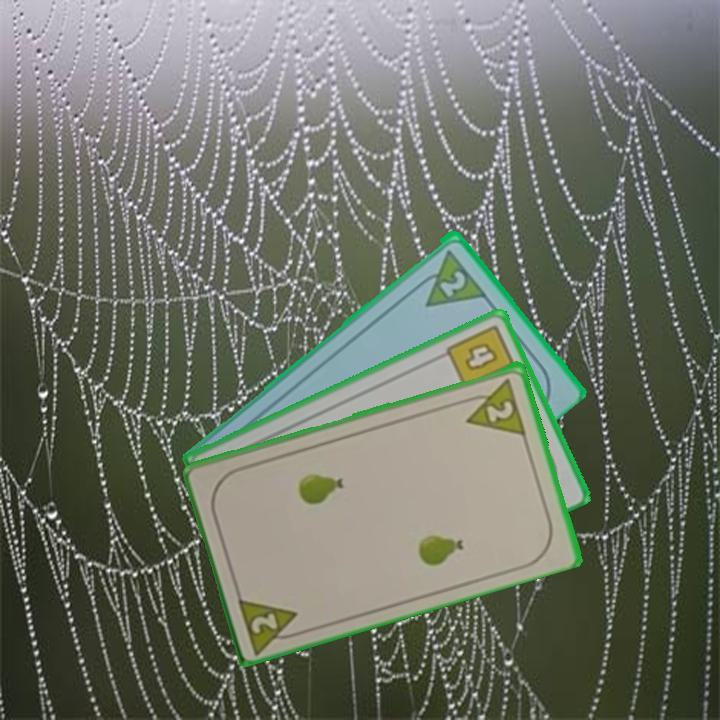2p: (409, 245, 488, 310), (234, 590, 308, 654), (483, 396, 517, 425)
4b: (442, 320, 519, 390)
